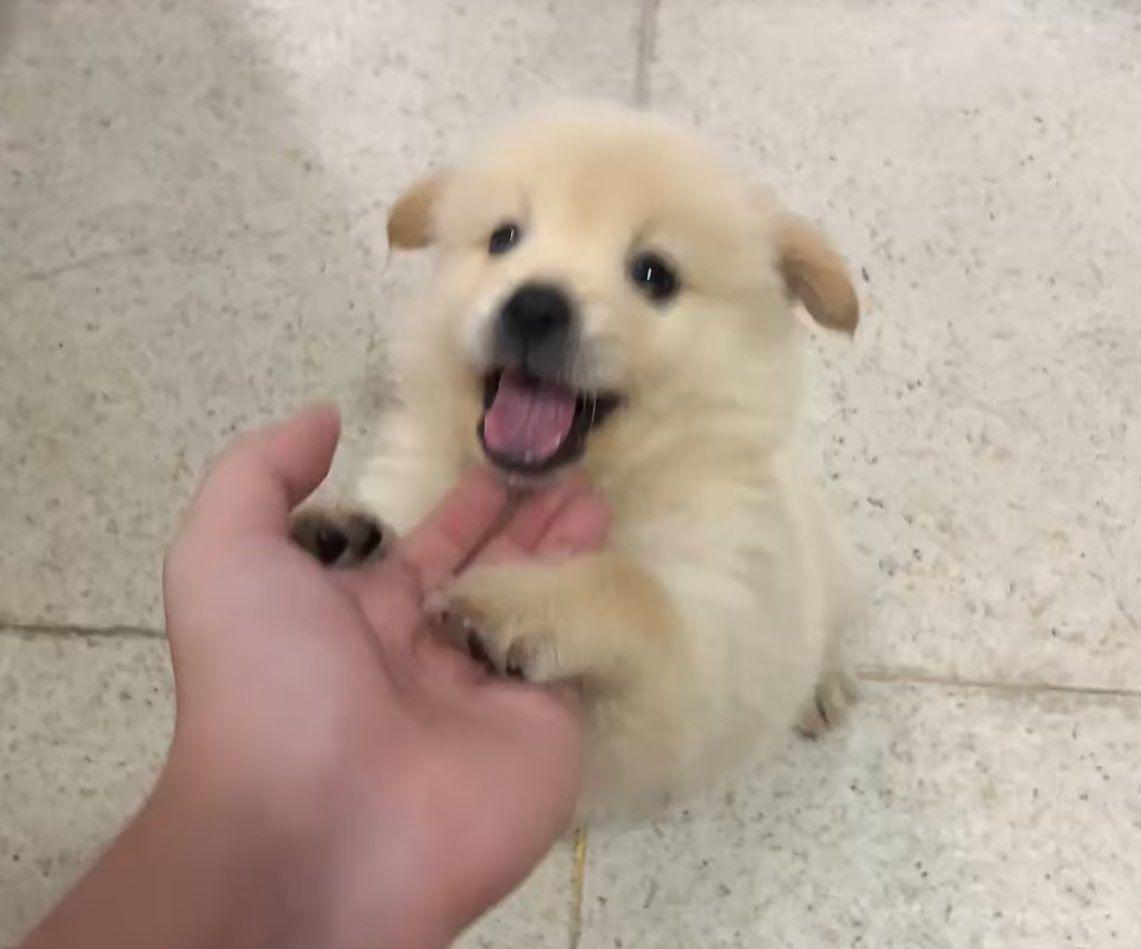non-dog: (9, 397, 616, 949)
puppy-dog: (292, 92, 883, 832)
